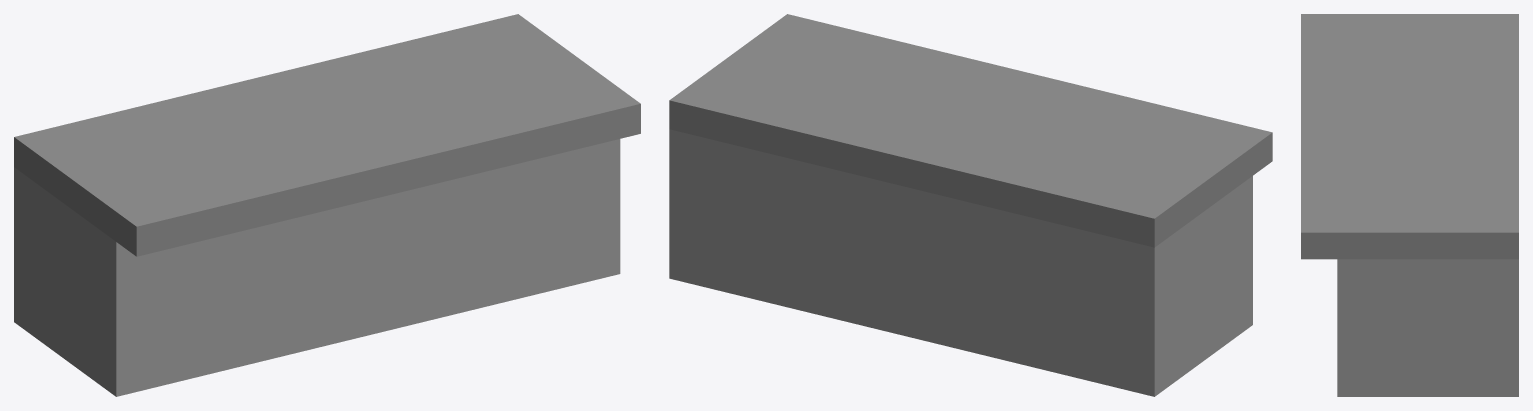
Rendered from countertop.fbx.
The picture shows the model from 3 angles, left to right: view 1: azimuth 30°, elevation 25°; view 2: azimuth 150°, elevation 25°; view 3: azimuth 270°, elevation 25°; orthographic projection. The views are drawn at different scales.
Visible parts, largest first — view 1: Cube; view 2: Cube; view 3: Cube.
Boxes of the visible parts, x1=… form: Cube: x1=14, y1=14, x2=640, y2=396; Cube: x1=669, y1=14, x2=1272, y2=396; Cube: x1=1301, y1=14, x2=1518, y2=396.
Size of the model in its own units: 570 by 200 by 240.
